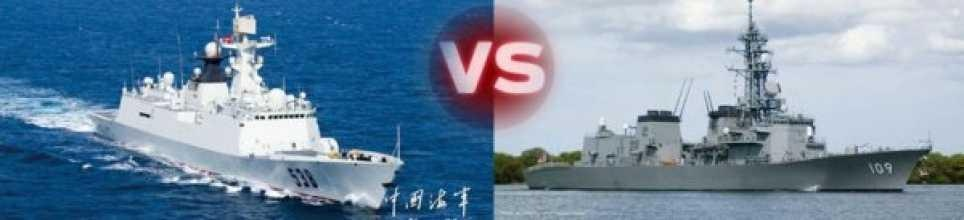warship: (519, 13, 930, 204), (103, 20, 400, 205)
